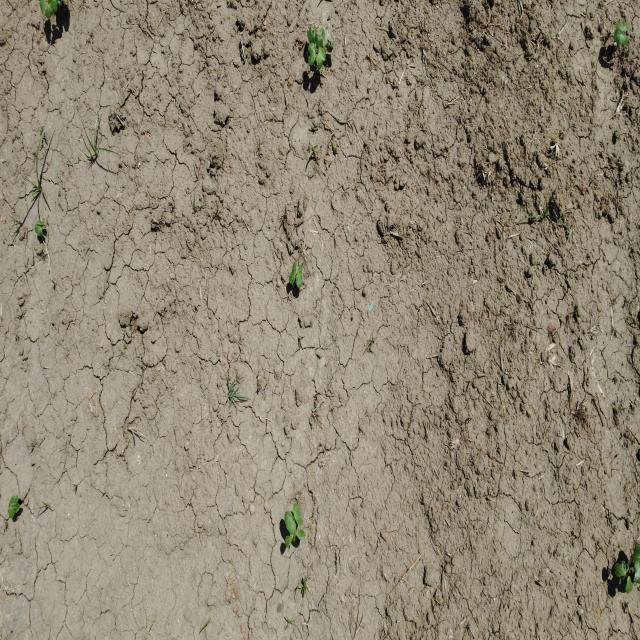seedling: (284, 510, 296, 535), (633, 543, 640, 583), (614, 562, 630, 577), (614, 29, 628, 45), (45, 0, 57, 18), (296, 263, 304, 288), (293, 504, 302, 525), (8, 495, 19, 511), (307, 43, 315, 65), (317, 48, 325, 70), (8, 504, 20, 518), (625, 576, 633, 595), (289, 262, 296, 283), (615, 22, 630, 31), (307, 28, 315, 43), (285, 535, 294, 548), (34, 224, 43, 236), (316, 29, 325, 41), (315, 35, 323, 48), (296, 529, 305, 540), (39, 0, 45, 14), (36, 221, 44, 226)
